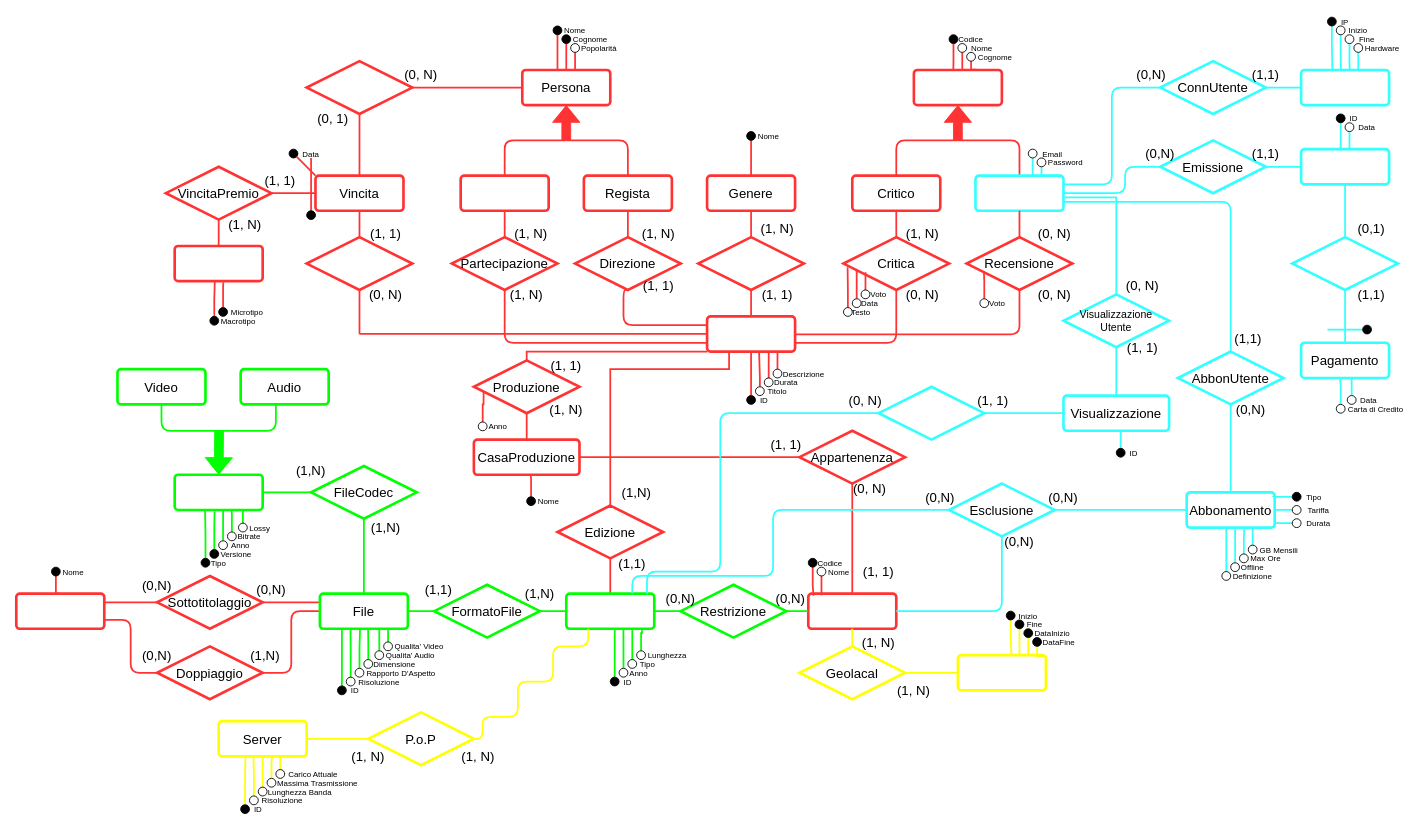
The diagram is 1422 pixels wide and 830 high, and some of its shapes have lost their labels. Each missing label, with the centre of its shape:
"Attore" goes at (x=504, y=193).
"Codec" goes at (x=218, y=492).
"Connessione" goes at (x=1344, y=87).
"Fattura" goes at (x=1344, y=166).
"Film" goes at (x=750, y=333).
"Formato" goes at (x=610, y=611).
"GenereFilm" goes at (x=751, y=263).
"IP Range" goes at (x=1001, y=672).
"Lingua" goes at (x=60, y=611).
"Paese" goes at (x=852, y=611).
"Pagamento Fattura" goes at (x=1345, y=263).
"Premio" goes at (x=218, y=263).
"PremioFilm" goes at (x=359, y=263).
"Recensore" goes at (x=957, y=87).
"Utente" goes at (x=1019, y=193).
"VincitaPersona" goes at (x=359, y=87).
"Visualizzazione File" goes at (x=931, y=412).
